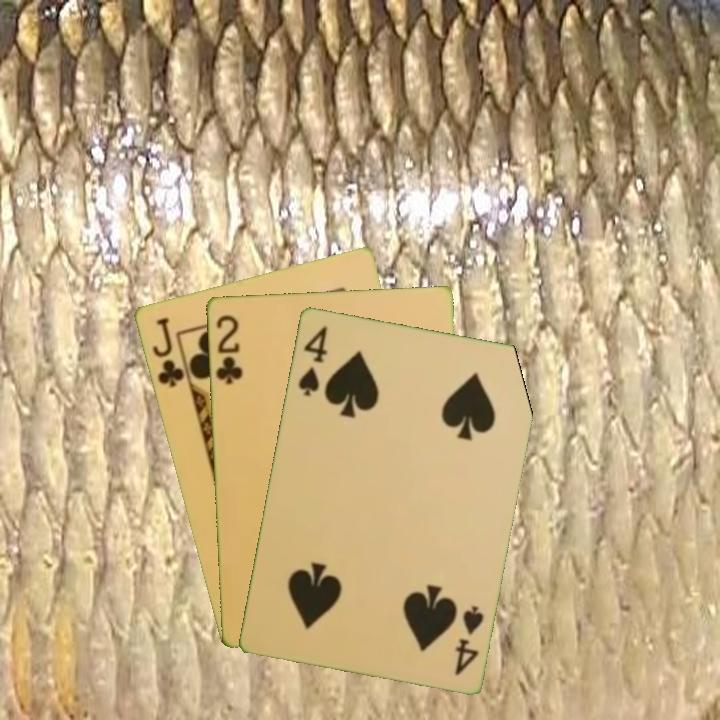2c: (211, 311, 245, 387)
4s: (294, 322, 330, 399), (451, 601, 486, 678)
Jc: (148, 313, 187, 390)
